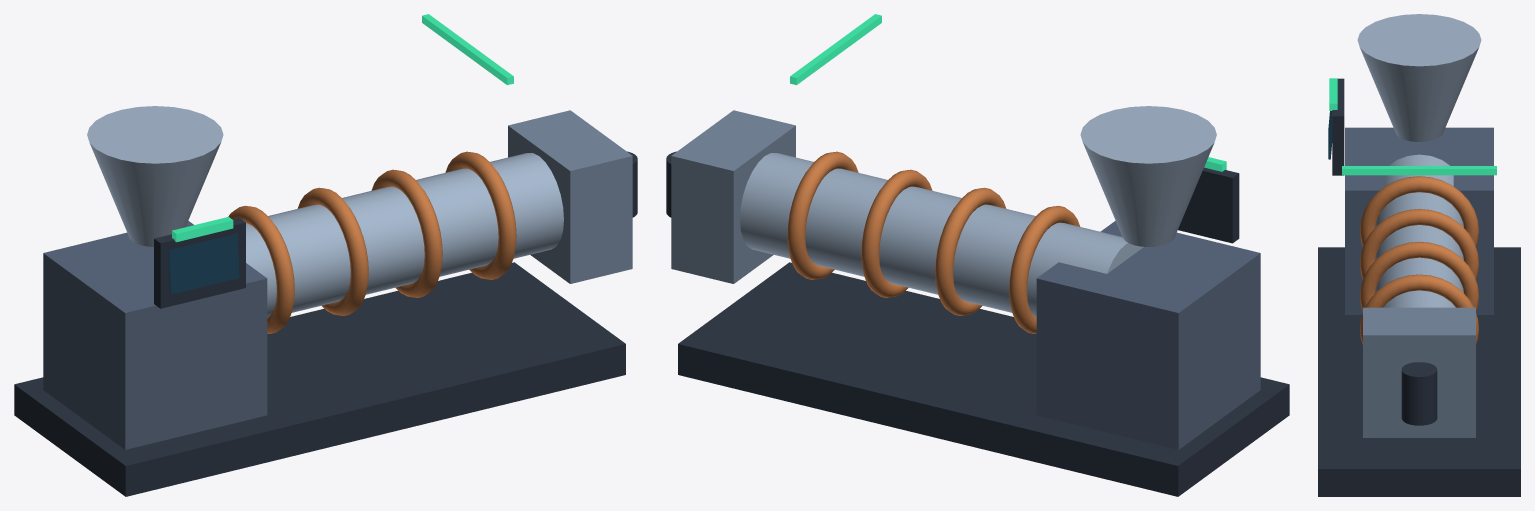
File: extruder.glb
3 renders of one model, left to right at view 1: azimuth 30°, elevation 25°; view 2: azimuth 150°, elevation 25°; view 3: azimuth 270°, elevation 25°, orthographic. The views are drawn at different scales.
Size of the model in its own units: 169 by 89.42 by 57.8.
